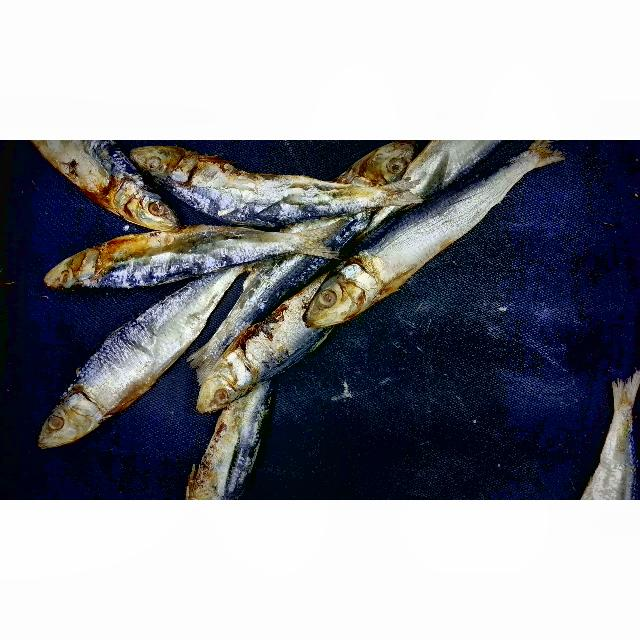Grade_B_Body: (101, 286, 214, 403), (201, 151, 340, 237), (384, 193, 489, 284), (112, 225, 253, 288)
Grade_B_Head: (295, 264, 376, 338), (33, 386, 111, 461), (191, 348, 259, 421), (25, 241, 101, 302), (112, 169, 178, 238), (341, 140, 416, 188), (127, 142, 188, 179)
Grade_B_Tail: (567, 353, 640, 500), (470, 146, 563, 213), (248, 210, 347, 268), (347, 165, 430, 214)
